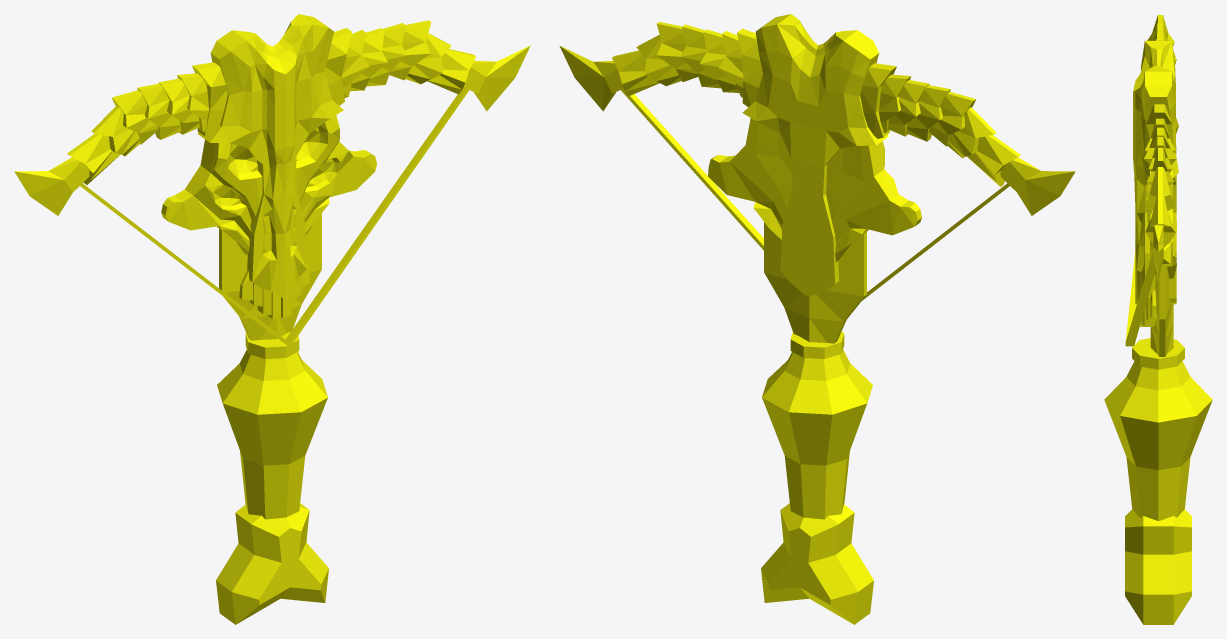
File: _crossbow_9.glb
3 renders of one model, left to right at view 1: azimuth 30°, elevation 25°; view 2: azimuth 150°, elevation 25°; view 3: azimuth 270°, elevation 25°, orthographic. The views are drawn at different scales.
Visible parts, largest first — view 1: crossbow_9; view 2: crossbow_9; view 3: crossbow_9.
Part boxes in pixels (bbox=[...]): crossbow_9: bbox=[14, 14, 530, 624]; crossbow_9: bbox=[559, 14, 1075, 624]; crossbow_9: bbox=[1104, 14, 1212, 624].
Size of the model in its own units: 20098 by 21595 by 3878.
